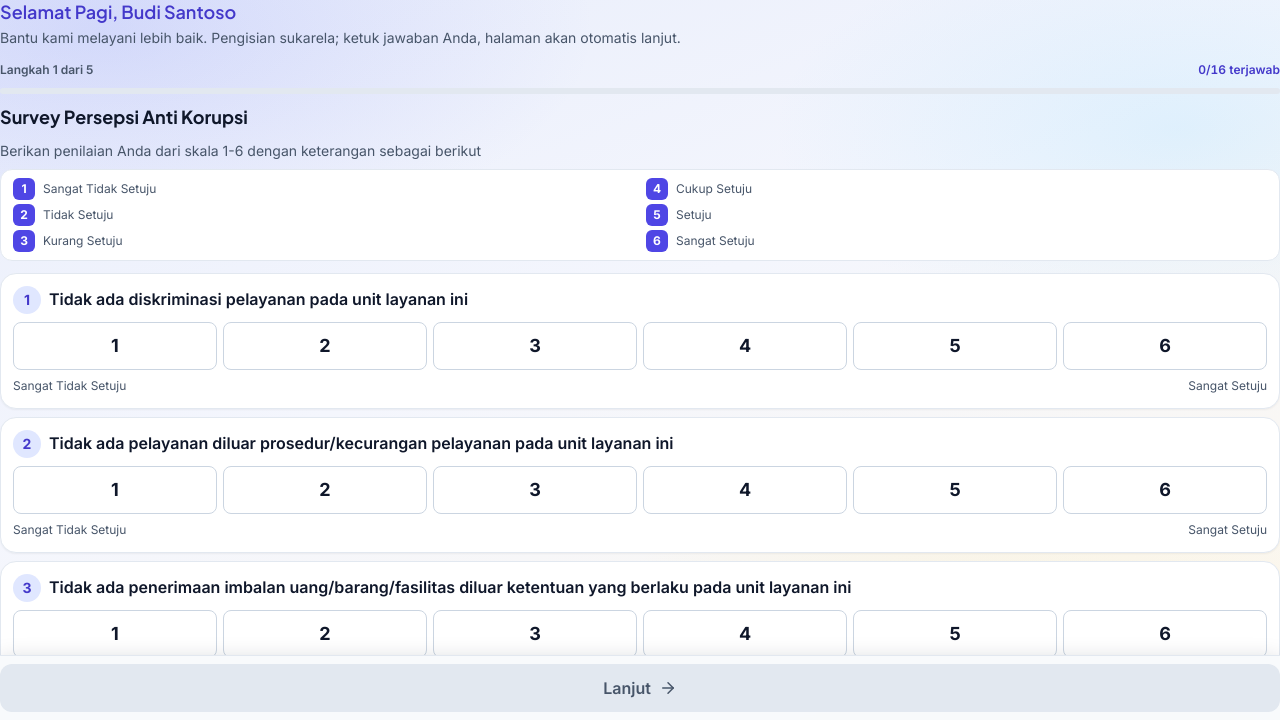
SurveiWizard: ketukan dan lanjut › panah pada radiogroup memilih tanpa auto-lanjut (pola ARIA)
Click the 1st radio button labelled "3" at (535, 346), box [433,322,637,370]
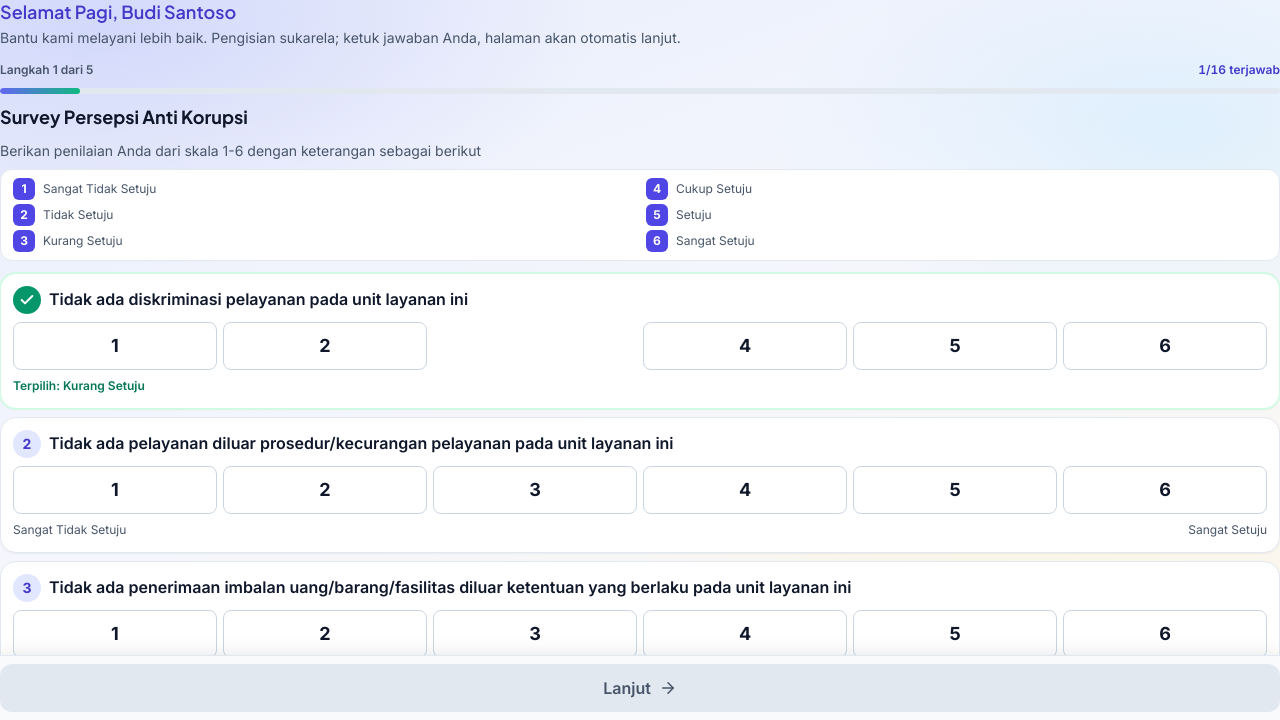
Click the 2nd radio button labelled "3" at (535, 490), box [433,466,637,514]
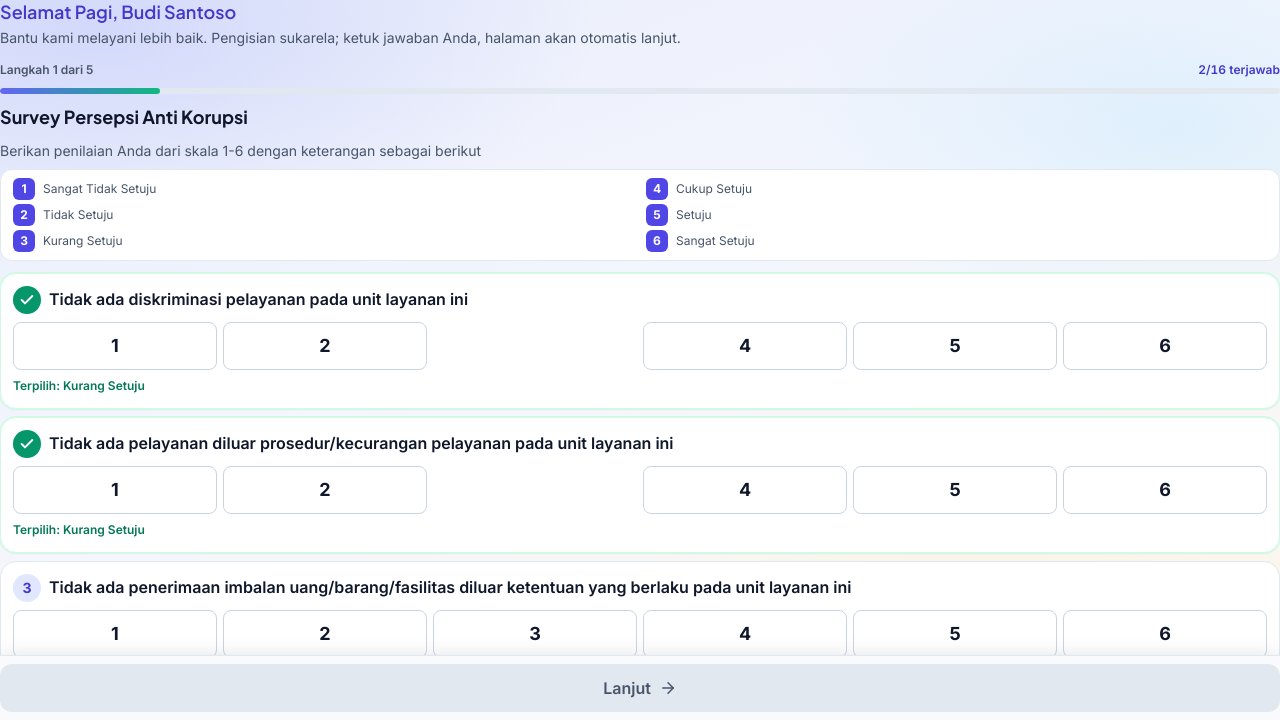
Press ArrowRight in the 3rd radio button labelled "1", box [13,610,217,658]
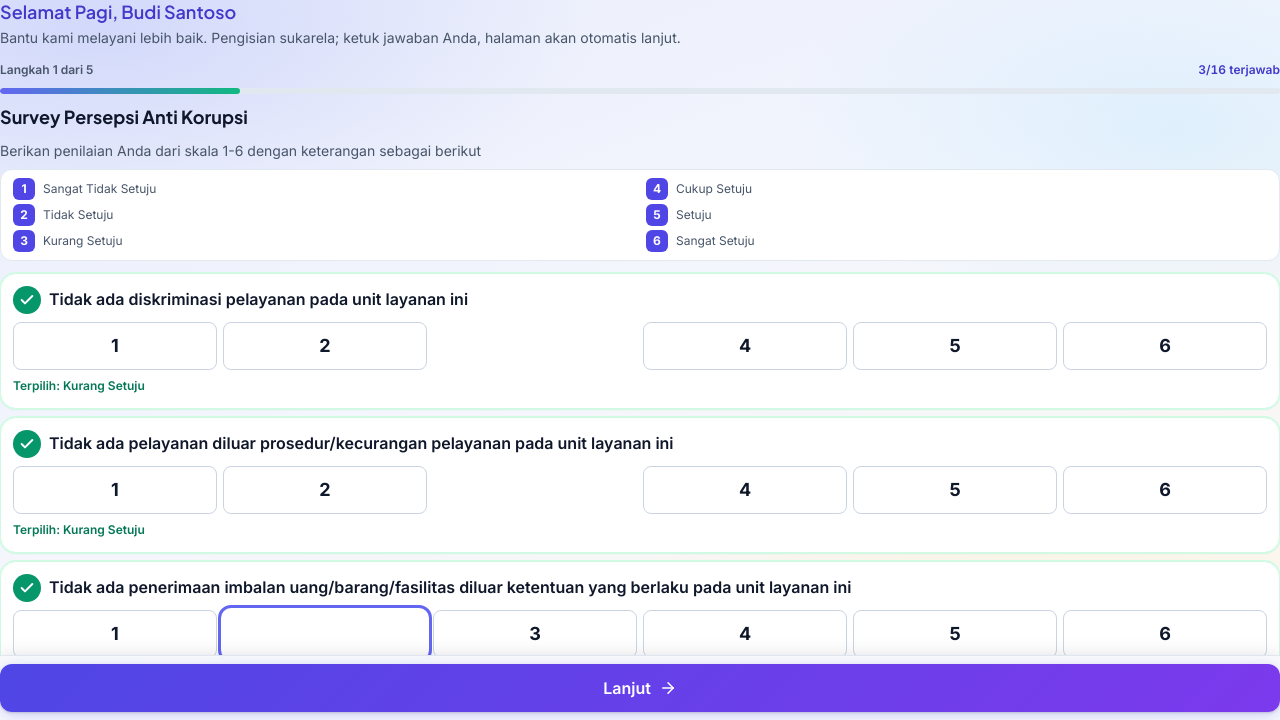
Check: the button "Lanjut" is enabled, box [0,664,1279,712]
